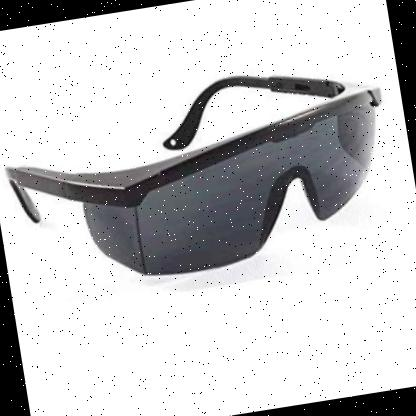oculos: (0, 46, 416, 304)
